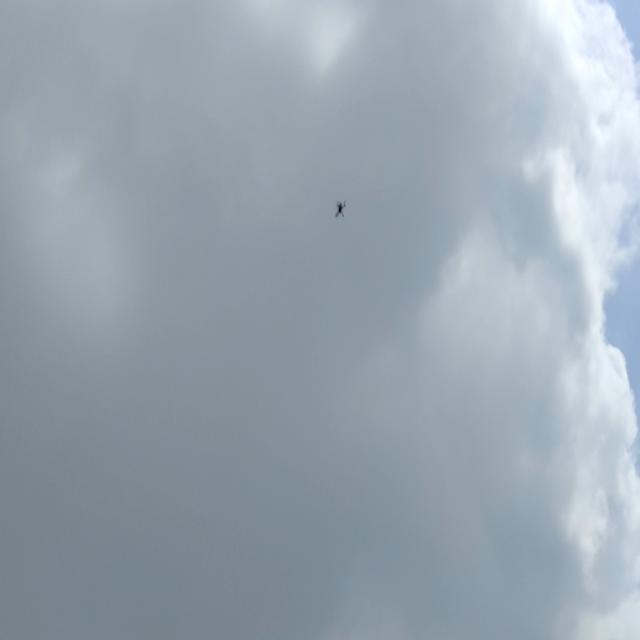drone: (329, 198, 356, 225)
